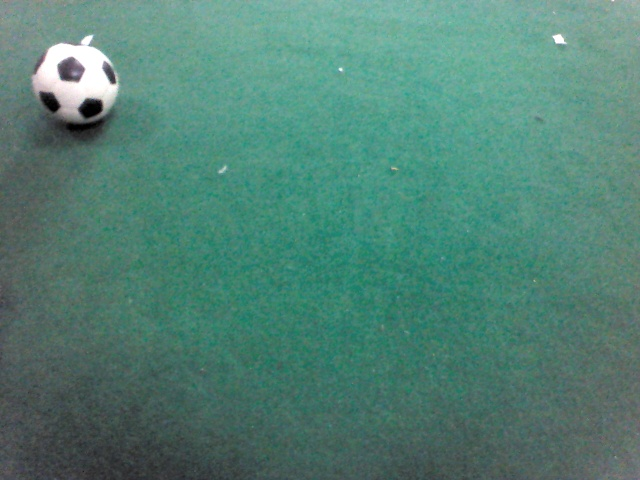ball: (30, 40, 119, 125)
